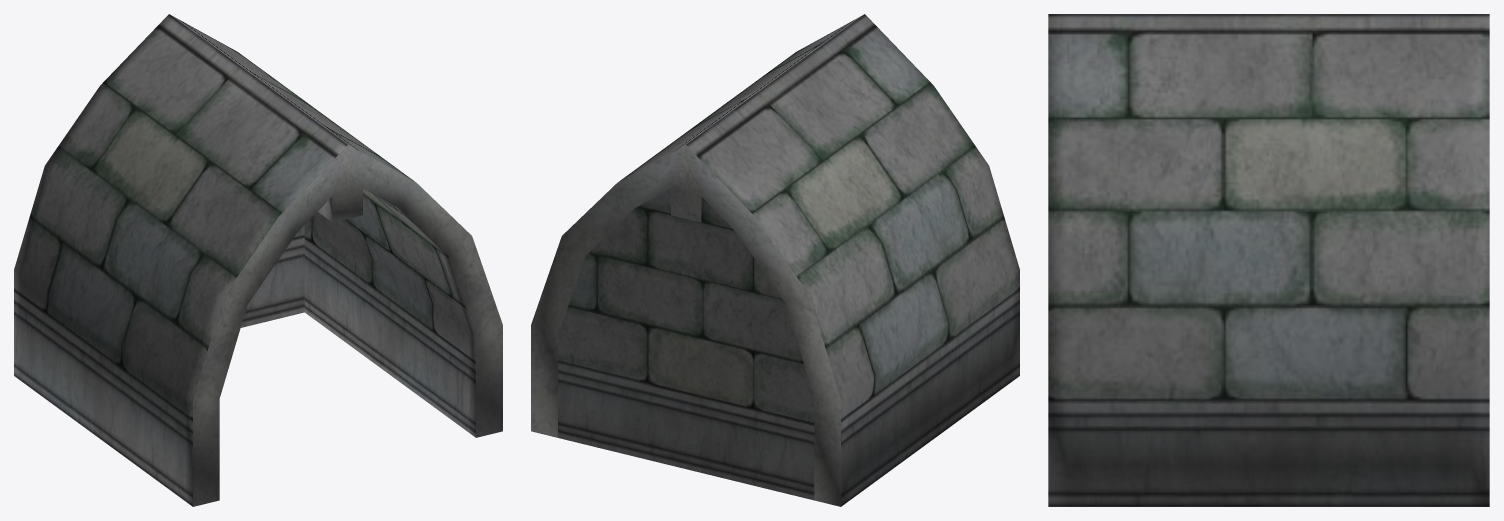
File: barrel_ceiling_small_02.glb
3 renders of one model, left to right at view 1: azimuth 30°, elevation 25°; view 2: azimuth 150°, elevation 25°; view 3: azimuth 270°, elevation 25°, orthographic. The views are drawn at different scales.
Visible parts, largest first — view 1: barrel_ceiling_small_02; view 2: barrel_ceiling_small_02; view 3: barrel_ceiling_small_02.
Boxes of the visible parts, x1,y1,x2,y2 form: barrel_ceiling_small_02: [14, 14, 502, 506]; barrel_ceiling_small_02: [531, 14, 1019, 506]; barrel_ceiling_small_02: [1048, 14, 1489, 506].
Bounding box in the file's own units: 2 × 2 × 2.
1 material, 1 textured.
